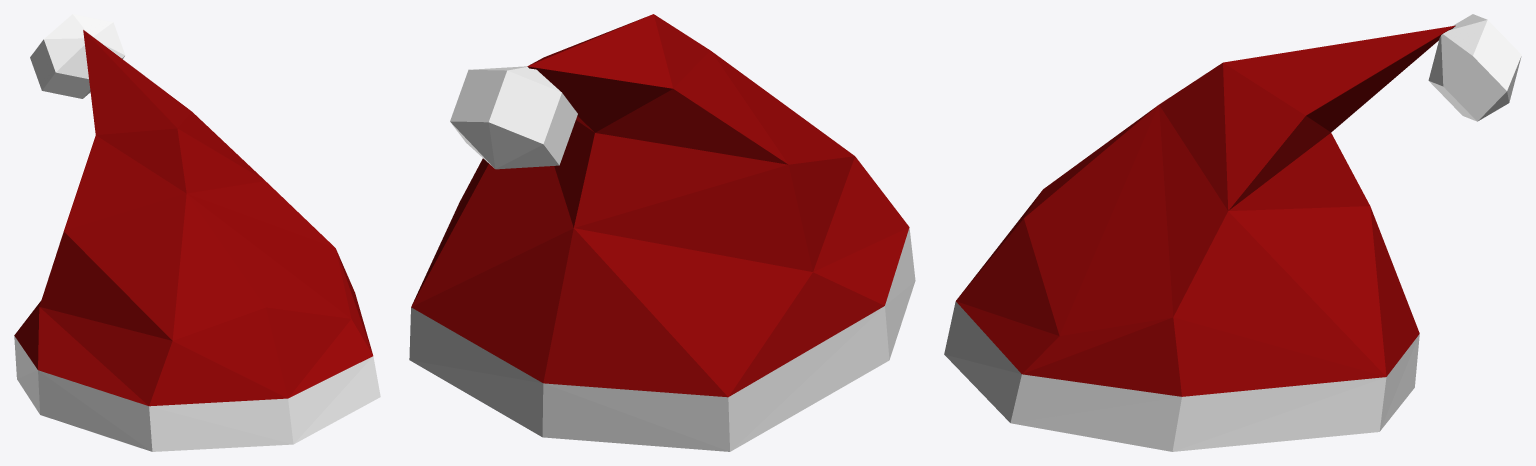
Rendered from Objet2_06.glb.
3 renders of one model, left to right at view 1: azimuth 30°, elevation 25°; view 2: azimuth 150°, elevation 25°; view 3: azimuth 270°, elevation 25°, orthographic. The views are drawn at different scales.
Visible parts, largest first — view 1: Snowman_Santa_Hat; view 2: Snowman_Santa_Hat; view 3: Snowman_Santa_Hat.
Boxes of the visible parts, x1,y1,x2,y2 form: Snowman_Santa_Hat: [14, 14, 380, 451]; Snowman_Santa_Hat: [409, 14, 915, 451]; Snowman_Santa_Hat: [944, 14, 1521, 451].
Size of the model in its own units: 57.4 by 50.76 by 72.16.
1 material, 1 textured.
